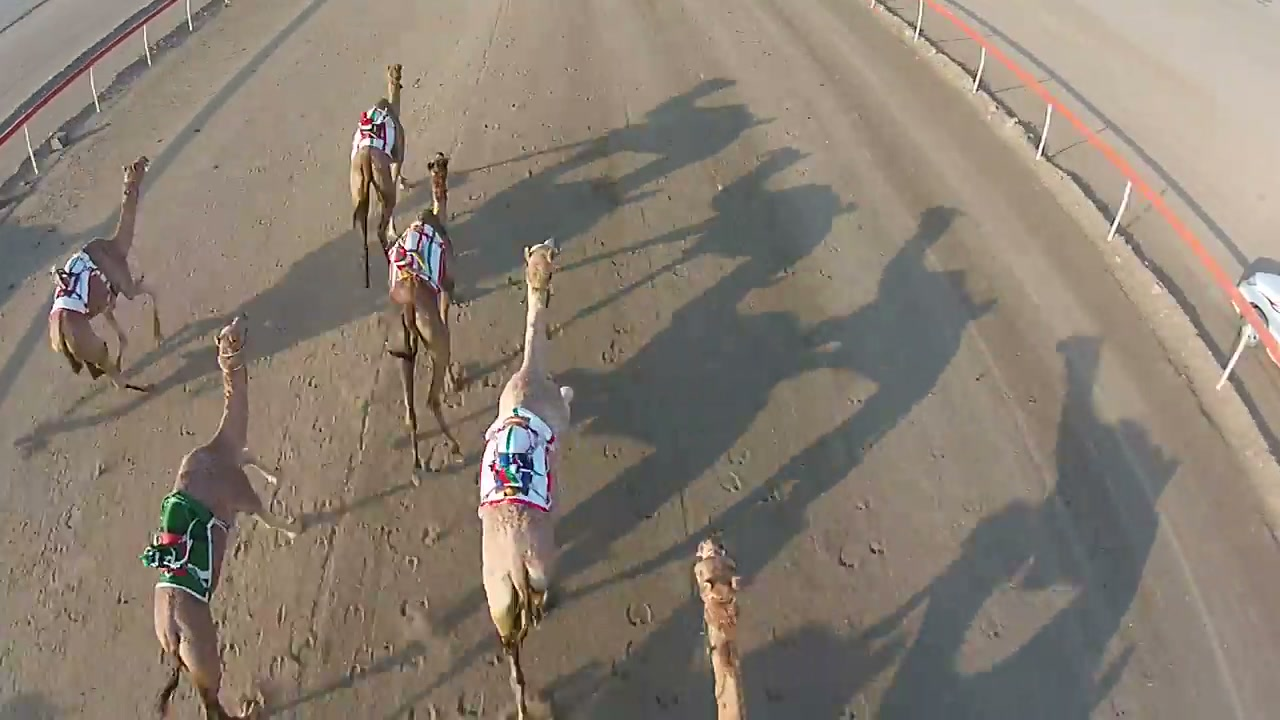animal_footprint: (249, 488, 506, 719), (589, 317, 715, 704), (696, 462, 920, 595), (264, 330, 371, 580)
